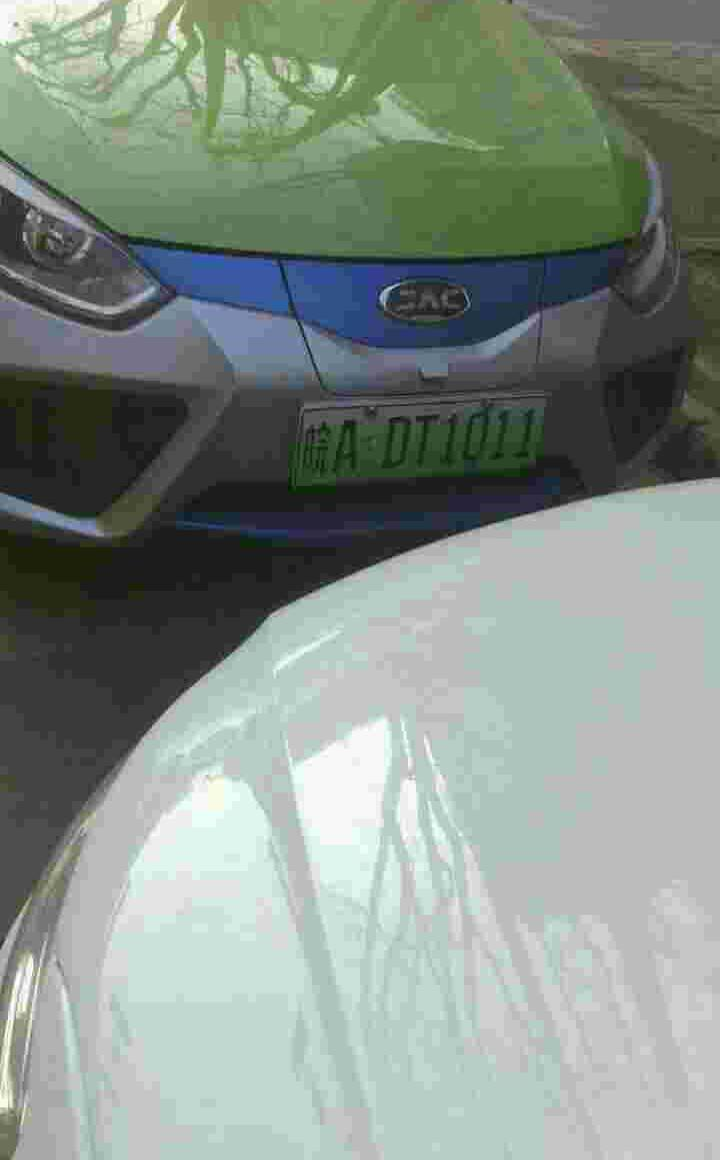car: (295, 402, 563, 478)
